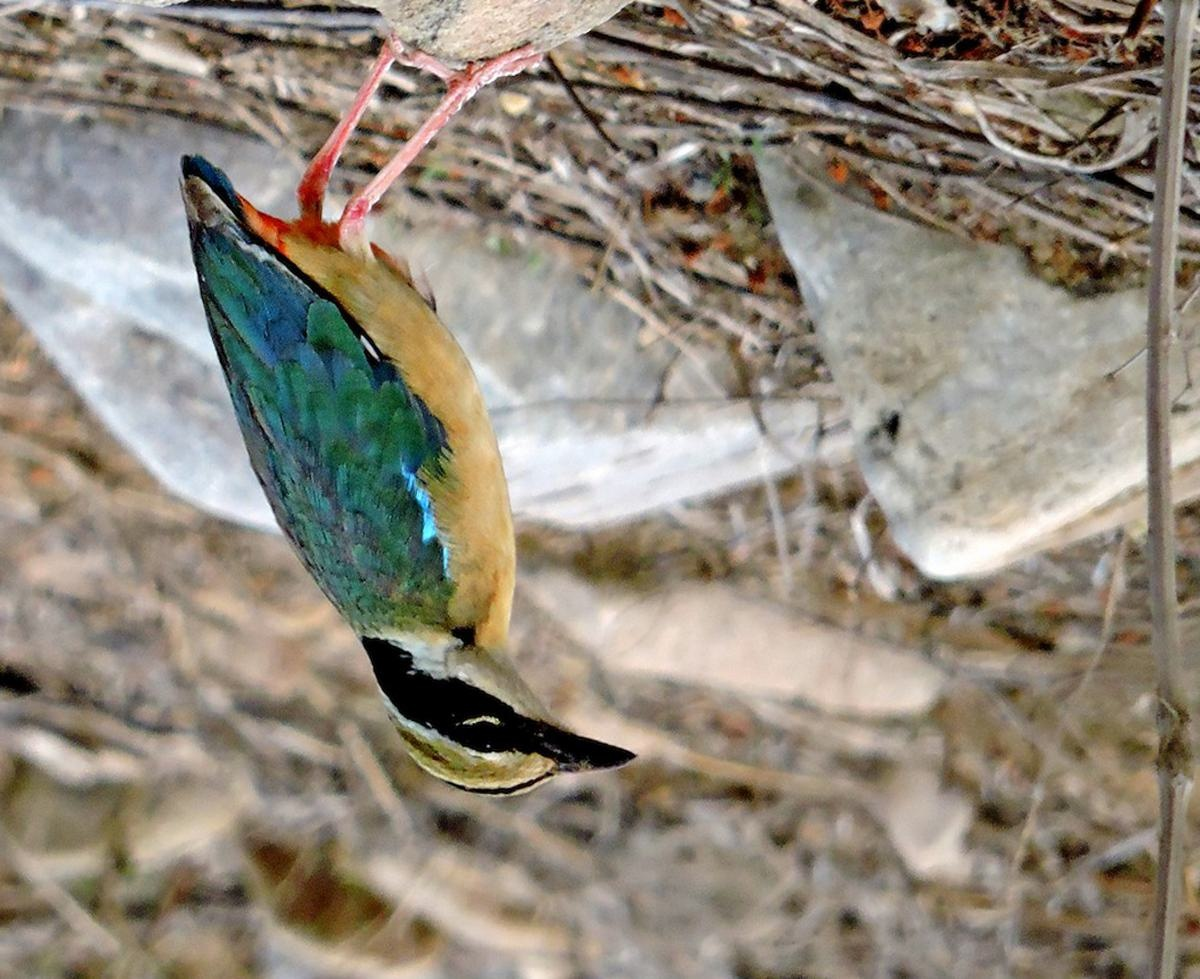pitta: (194, 97, 665, 804)
